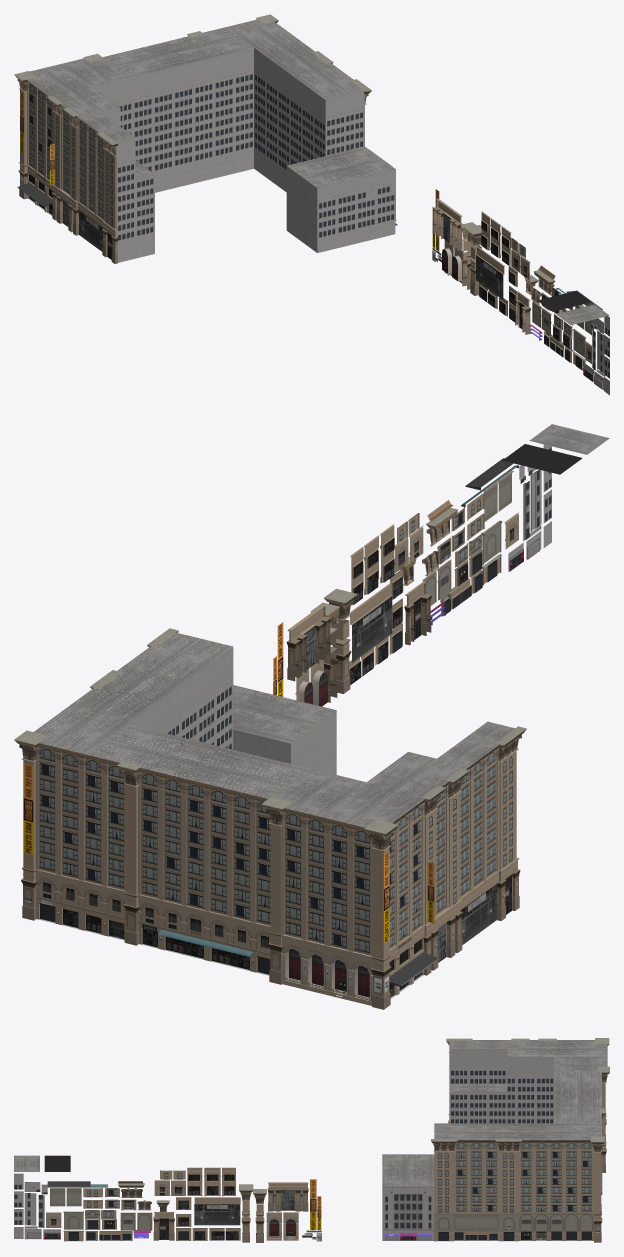
The model's file is bulding_pacific_electric_lofts_low_poly-v1.glb.
3 views of the same model, one above another, from view 1: azimuth 30°, elevation 25°; view 2: azimuth 150°, elevation 25°; view 3: azimuth 270°, elevation 25° (orthographic). The views are drawn at different scales.
Parts seen in each view (by area): view 1: PacificElectricLoftsApartments_74, wall20_63, gate07_26, roof02_32, roof01_31, gate06_25; view 2: PacificElectricLoftsApartments_74, wall20_63, gate07_26, roof01_31, roof02_32, gate06_25, shop09_40, collone00_5; view 3: PacificElectricLoftsApartments_74, gate07_26, wall20_63, gate06_25, shop09_40, shop08_39, wall17_60, wall18_61, roof02_32, roof01_31, wallwhite06_70, shop10_41 (+8 smaller).
Part boxes in pixels (box(x1,y1,x2,y2)): PacificElectricLoftsApartments_74: box(14, 14, 397, 263); wall20_63: box(433, 198, 462, 250); gate07_26: box(476, 246, 504, 299); roof02_32: box(537, 291, 591, 311); roof01_31: box(556, 304, 609, 324); gate06_25: box(515, 291, 530, 334); PacificElectricLoftsApartments_74: box(14, 628, 526, 1009); wall20_63: box(286, 604, 331, 681); gate07_26: box(349, 583, 392, 662); roof01_31: box(529, 424, 609, 454); roof02_32: box(502, 444, 582, 474); gate06_25: box(404, 581, 431, 645); shop09_40: box(363, 535, 379, 594); collone00_5: box(332, 638, 351, 693); PacificElectricLoftsApartments_74: box(382, 1038, 609, 1242); gate07_26: box(194, 1197, 240, 1225); wall20_63: box(267, 1182, 308, 1211); gate06_25: box(153, 1211, 174, 1240); shop09_40: box(204, 1167, 220, 1196); shop08_39: box(187, 1167, 202, 1196); wall17_60: box(266, 1212, 281, 1240); wall18_61: box(283, 1212, 298, 1240); roof02_32: box(44, 1155, 70, 1171); roof01_31: box(14, 1155, 39, 1171); wallwhite06_70: box(24, 1193, 36, 1225); shop10_41: box(222, 1167, 235, 1196).
Bounding box in the file's own units: 77.01 × 34.4 × 182.
2 materials, 2 textured.
